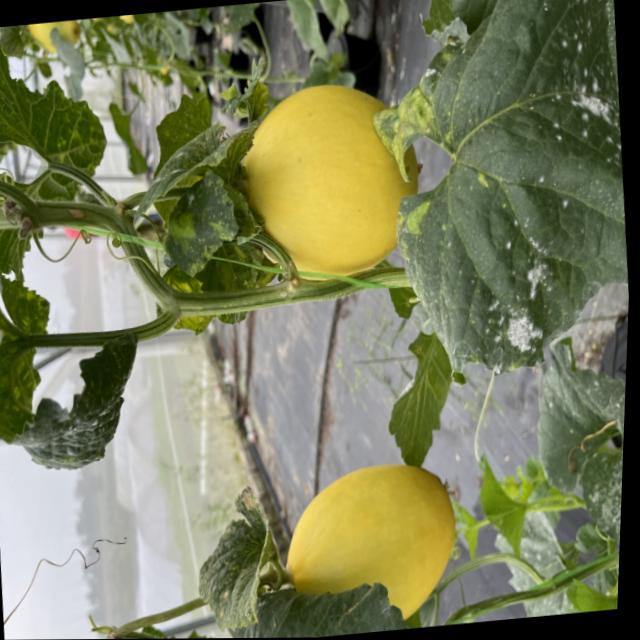CMV: (0, 232, 151, 480), (0, 19, 124, 283), (183, 482, 290, 638), (120, 83, 234, 228), (150, 163, 243, 280)
powdery mildew: (349, 0, 640, 395), (522, 330, 628, 557)
